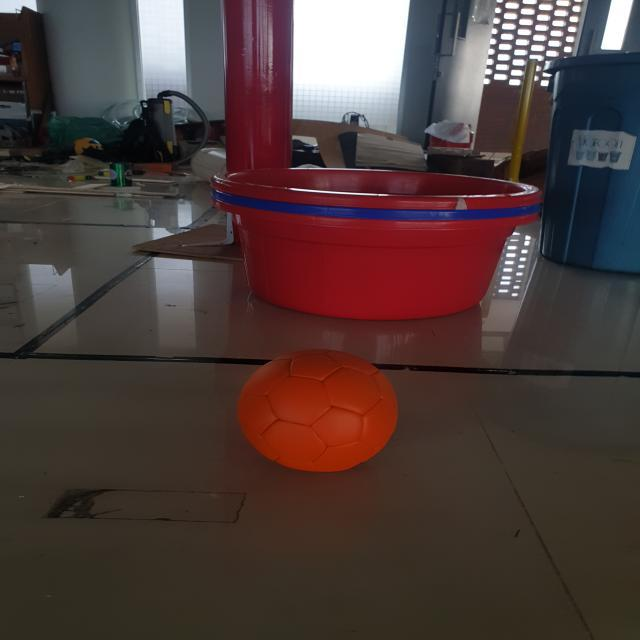bola: (212, 334, 414, 480)
